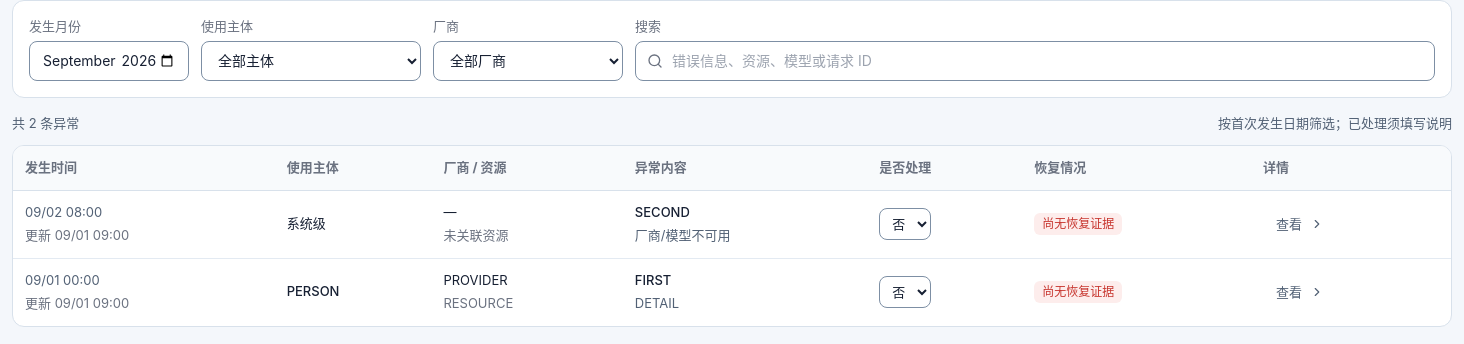
Test: supports an empty month, nonmatching principals and providers, and stable empty/error presentation
The image size is (1464, 344).
Clear the field named "异常月份" at coordinates (109, 60), box [29,40,189,80]
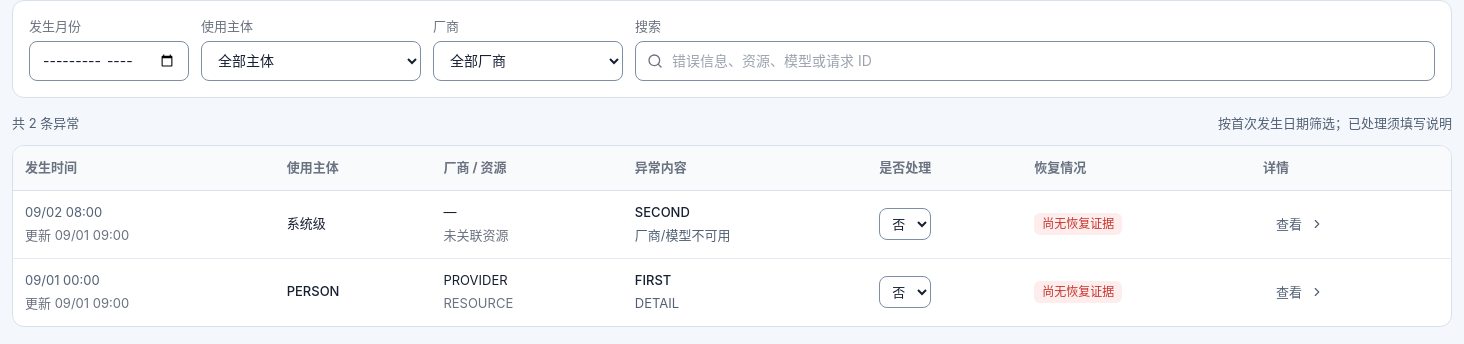
Expected: the text "共 2 条异常" is shown, [12,114,79,133]
Select "PERSON" in the dropdown named "异常使用主体" at coordinates (311, 60), box [201,40,421,80]
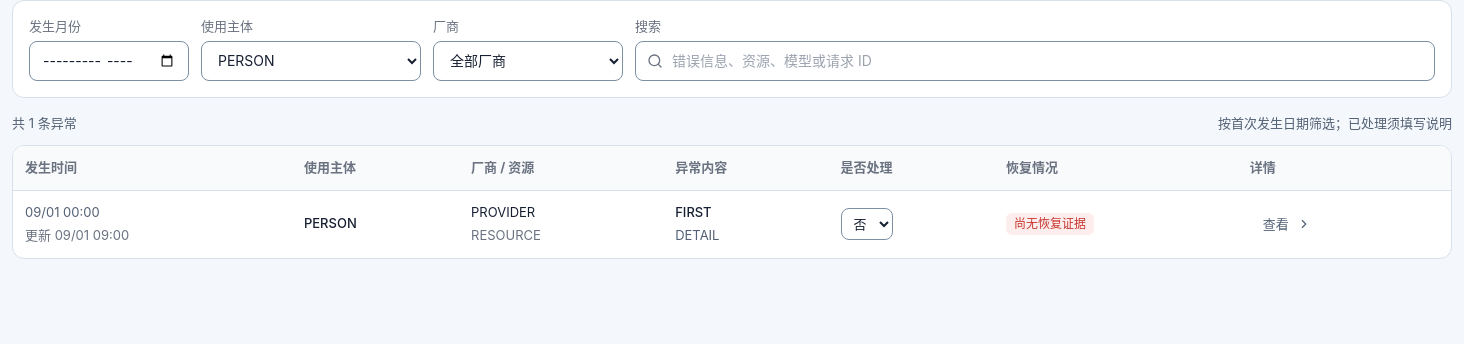
Result: the text "SECOND" is gone
Select "PROVIDER" in the dropdown named "异常厂商" at coordinates (528, 60), box [433,40,623,80]
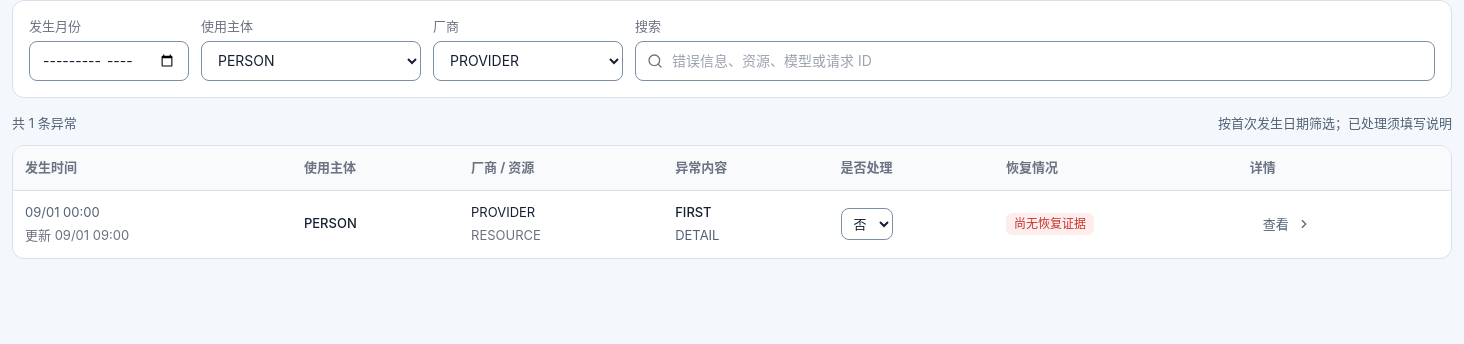
Expected: the text "FIRST" is shown, [675,204,712,220]
Type "absent" into the search field named "搜索异常" at coordinates (1035, 60), box [635,40,1435,80]
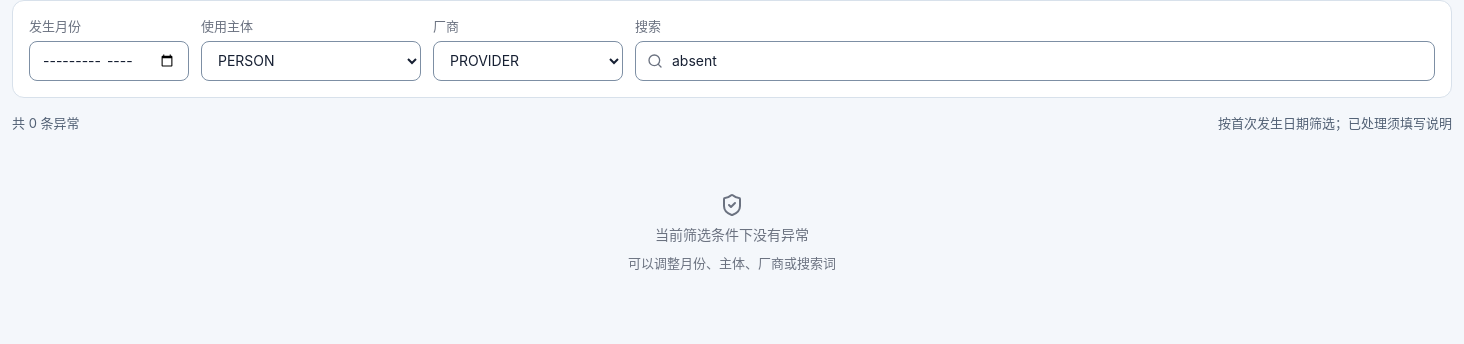
Result: the text "当前筛选条件下没有异常" is shown at [655,225,809,245]
